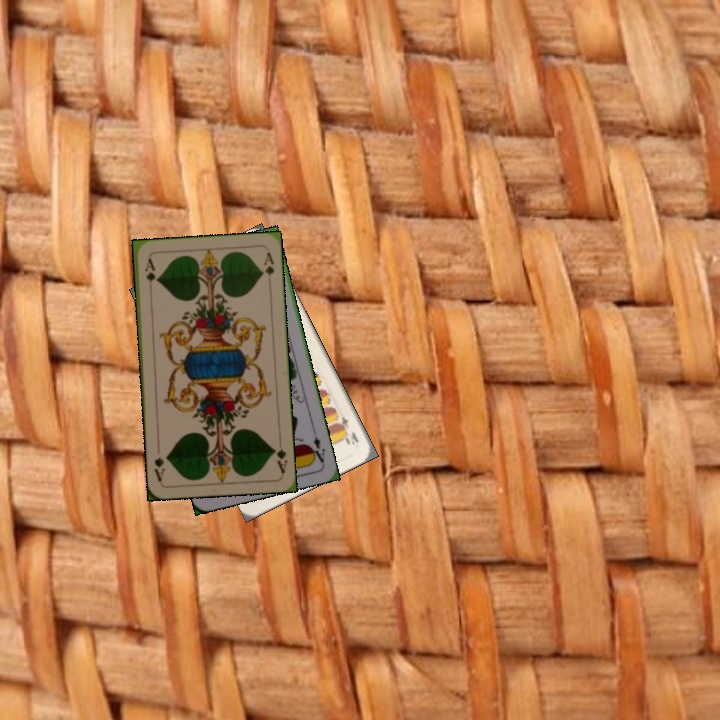E10: (335, 412, 361, 447)
EA: (307, 426, 328, 465)
GA: (269, 435, 290, 476), (141, 254, 158, 295)
